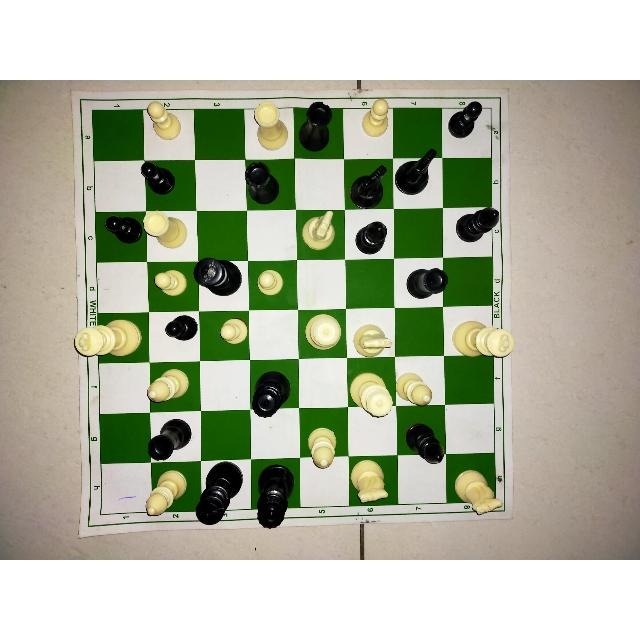black-bishop: (404, 422, 444, 465), (456, 208, 498, 241), (359, 223, 387, 256)
black-knight: (398, 147, 437, 196), (353, 164, 389, 205)
black-pawn: (448, 101, 484, 136), (141, 163, 175, 194), (101, 216, 141, 242), (168, 317, 198, 341)
black-queen: (255, 467, 287, 529), (251, 372, 291, 418)
black-rook: (149, 419, 192, 459), (300, 100, 331, 150), (243, 165, 281, 203), (404, 272, 448, 300)
white-bishop: (148, 471, 184, 513), (303, 430, 340, 468), (396, 373, 434, 407), (148, 371, 188, 403)
white-king: (196, 465, 240, 524), (452, 321, 513, 360), (75, 319, 141, 354), (194, 264, 242, 295)
white-knight: (456, 473, 502, 514), (350, 461, 390, 500), (303, 213, 337, 249), (354, 328, 390, 356)
white-pawn: (143, 102, 182, 142), (152, 272, 188, 298), (365, 100, 389, 134), (254, 269, 285, 294), (217, 319, 248, 343)
white-queen: (350, 373, 393, 417), (303, 314, 343, 348)
white-rook: (246, 100, 288, 149), (144, 214, 188, 248)
